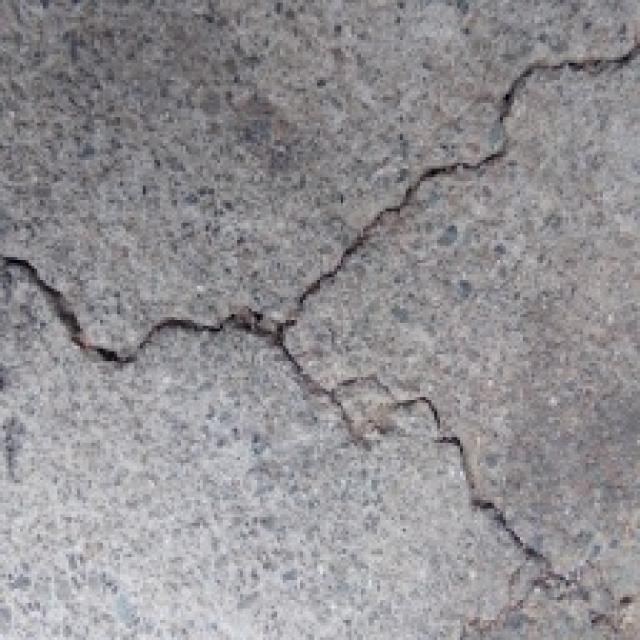SurfaceCrack: (0, 214, 640, 622), (206, 12, 640, 380)
